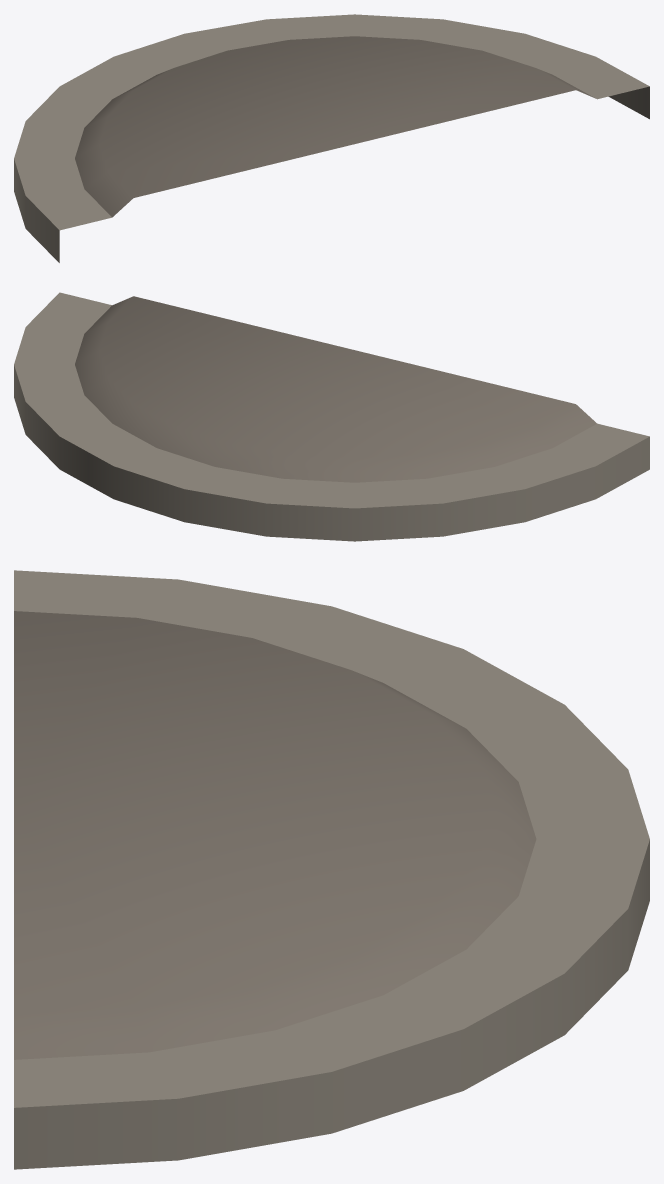
File: RoadMid_3_C.fbx
The picture shows the model from 3 angles, top to bottom: view 1: azimuth 30°, elevation 25°; view 2: azimuth 150°, elevation 25°; view 3: azimuth 270°, elevation 25°; orthographic projection. The views are drawn at different scales.
Parts seen in each view (by area): view 1: RoadMid_3_C; view 2: RoadMid_3_C; view 3: RoadMid_3_C.
Part boxes in pixels (<box>): RoadMid_3_C: <box>14,14,649,262</box>; RoadMid_3_C: <box>14,292,649,541</box>; RoadMid_3_C: <box>14,570,649,1169</box>.
Bounding box in the file's own units: 299 × 22.96 × 150.
